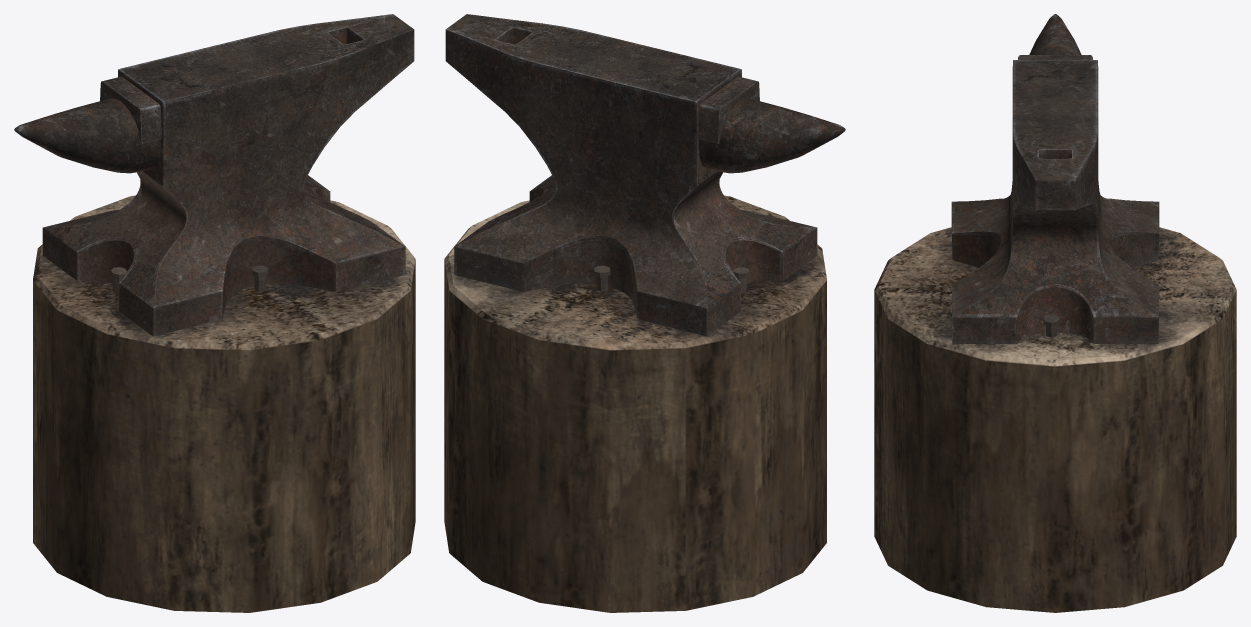
The model's file is anvil.glb.
3 renders of one model, left to right at view 1: azimuth 30°, elevation 25°; view 2: azimuth 150°, elevation 25°; view 3: azimuth 270°, elevation 25°, orthographic. The views are drawn at different scales.
Parts seen in each view (by area): view 1: Anvil; view 2: Anvil; view 3: Anvil.
Part boxes in pixels (x1,y1,x2,y2): Anvil: (14, 14, 415, 612); Anvil: (444, 14, 845, 612); Anvil: (874, 14, 1236, 612).
Bounding box in the file's own units: 1.12 × 1.29 × 0.9649.
Materials: 1 (1 with a texture image).
